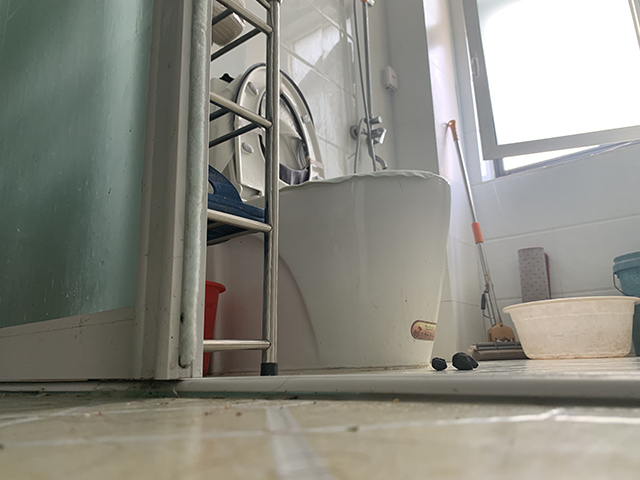closestool: (206, 59, 453, 375)
feces: (451, 352, 480, 372), (430, 356, 448, 372)
